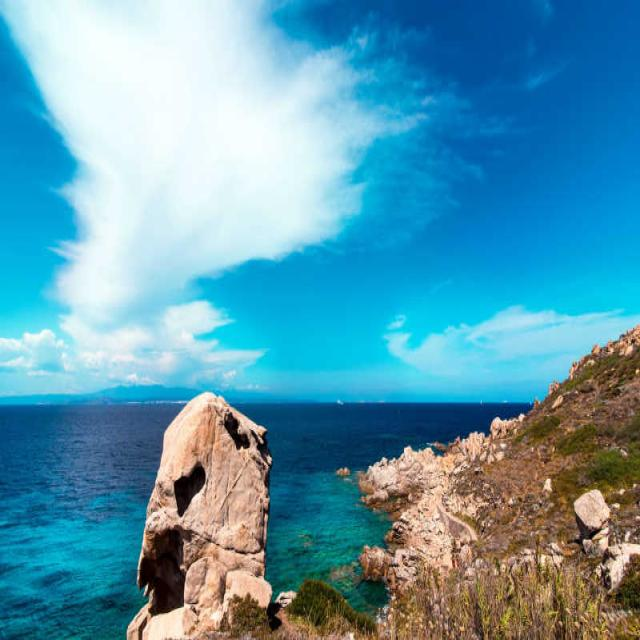reef: (127, 385, 270, 640)
